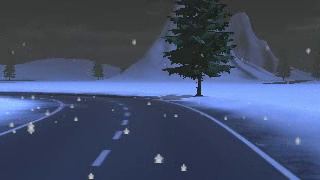Lane: (0, 92, 296, 179)
